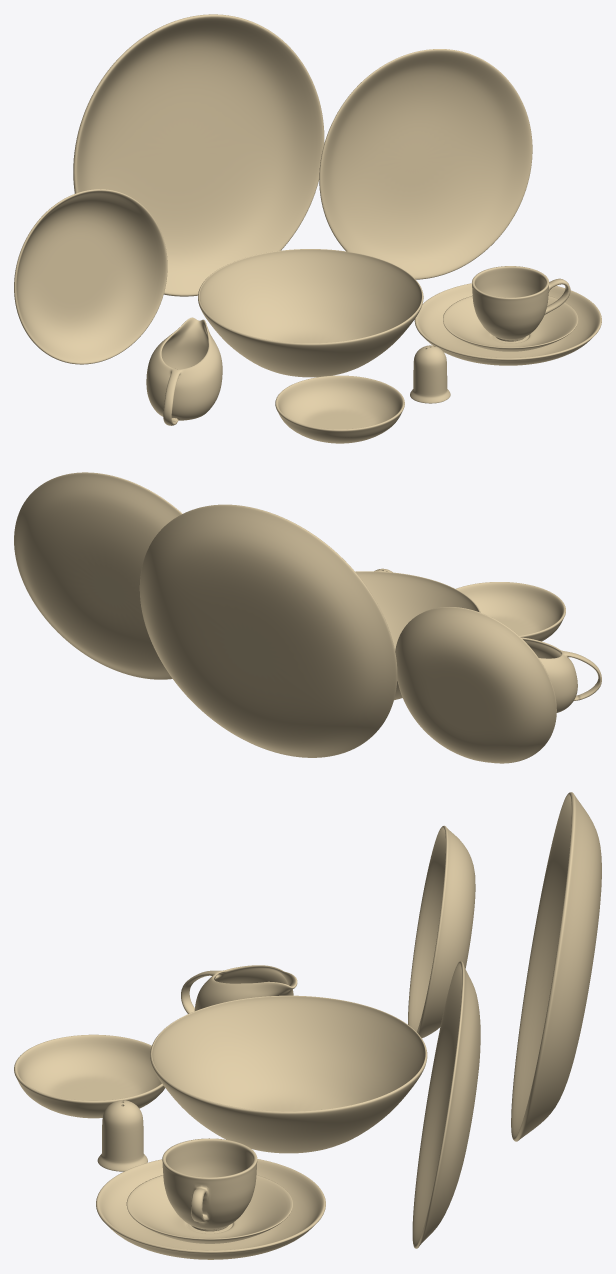
File: set-round.glb
3 renders of one model, top to bottom at view 1: azimuth 30°, elevation 25°; view 2: azimuth 150°, elevation 25°; view 3: azimuth 270°, elevation 25°, orthographic. The views are drawn at different scales.
Visible parts, largest first — view 1: Circle.006, Circle.005, Circle, Circle.003, Circle.002, Cylinder.007, Circle.004, CUP, NAALBAKI, Salt Shaker 0; view 2: Circle.006, Circle.005, Circle.003, Circle.002, Circle, Cylinder.007; view 3: Circle, Circle.006, Circle.005, Circle.002, Circle.003, Circle.004, CUP, NAALBAKI, Cylinder.007, Salt Shaker 0.
Part boxes in pixels (x1,y1,x2,y2): Circle.006: (73,14,324,296); Circle.005: (319,49,532,279); Circle: (198,249,423,377); Circle.003: (14,189,167,364); Circle.002: (275,375,404,443); Cylinder.007: (146,317,222,425); Circle.004: (414,283,601,365); CUP: (472,266,570,341); NAALBAKI: (443,295,578,351); Salt Shaker 0: (410,345,450,403); Circle.006: (139,504,397,757); Circle.005: (14,472,182,679); Circle.003: (395,607,556,763); Circle.002: (456,582,565,641); Circle: (355,571,480,700); Cylinder.007: (521,637,601,712); Circle: (150,995,427,1153); Circle.006: (511,792,601,1141); Circle.005: (412,961,480,1248); Circle.002: (14,1034,164,1118); Circle.003: (408,825,475,1038); Circle.004: (96,1159,325,1259); CUP: (162,1138,257,1231); NAALBAKI: (126,1175,292,1243); Cylinder.007: (181,965,297,1013); Salt Shaker 0: (97,1100,147,1171).
Size of the model in its own units: 0.6284 by 0.2959 by 0.4984.
